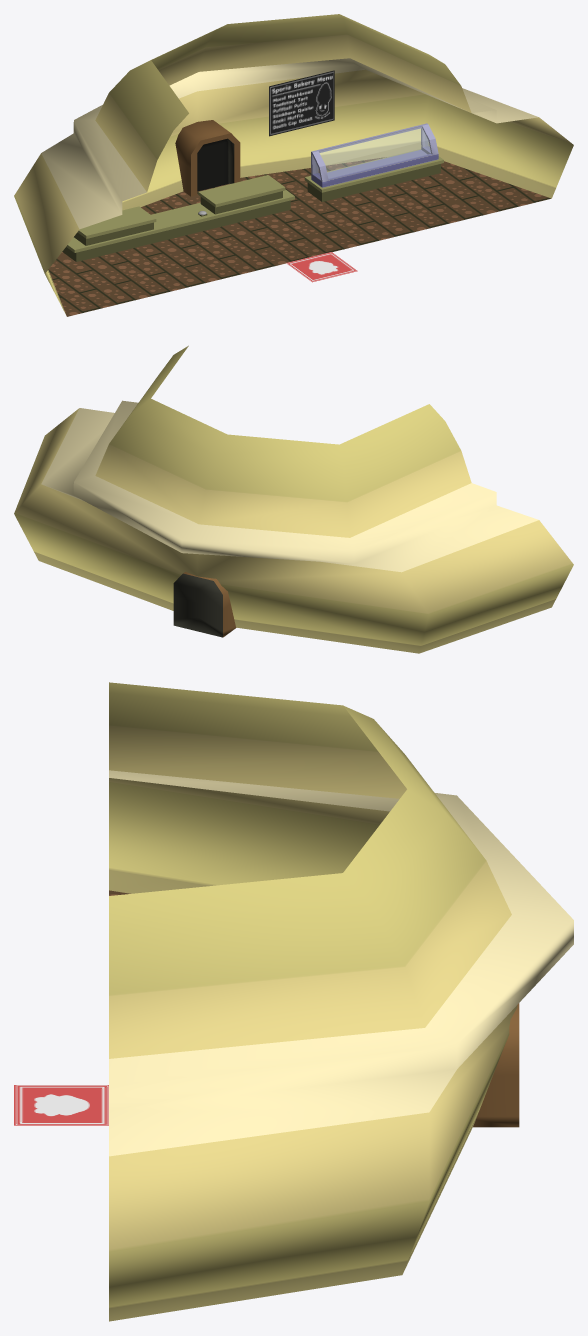
Rendered from innterior_updated.fbx.
3 views of the same model, one above another, from view 1: azimuth 30°, elevation 25°; view 2: azimuth 150°, elevation 25°; view 3: azimuth 270°, elevation 25° (orthographic). The views are drawn at different scales.
Visible parts, largest first — view 1: polySurface1, pasted__pCube20, pasted__counter2, pasted__bakery_door1, pPlane2, pasted__counter1, pasted__counter3, pasted__counter4, pPlane1; view 2: polySurface1, pasted__bakery_door1; view 3: polySurface1, pPlane1, pasted__bakery_door1.
Part boxes in pixels (x1=…): polySurface1: x1=14, y1=14, x2=573, y2=316; pasted__pCube20: x1=311, y1=123, x2=438, y2=187; pasted__counter2: x1=62, y1=189, x2=294, y2=261; pasted__bakery_door1: x1=175, y1=120, x2=240, y2=196; pPlane2: x1=269, y1=70, x2=334, y2=136; pasted__counter1: x1=304, y1=149, x2=443, y2=201; pasted__counter3: x1=198, y1=175, x2=285, y2=214; pasted__counter4: x1=74, y1=206, x2=156, y2=245; pPlane1: x1=286, y1=252, x2=357, y2=282; polySurface1: x1=14, y1=345, x2=573, y2=653; pasted__bakery_door1: x1=173, y1=572, x2=236, y2=637; polySurface1: x1=109, y1=682, x2=573, y2=1321; pPlane1: x1=14, y1=1085, x2=108, y2=1125; pasted__bakery_door1: x1=473, y1=1003, x2=519, y2=1127.
Bounding box in the file's own units: 44.26 × 13.93 × 22.25.
10 materials, 6 textured.
